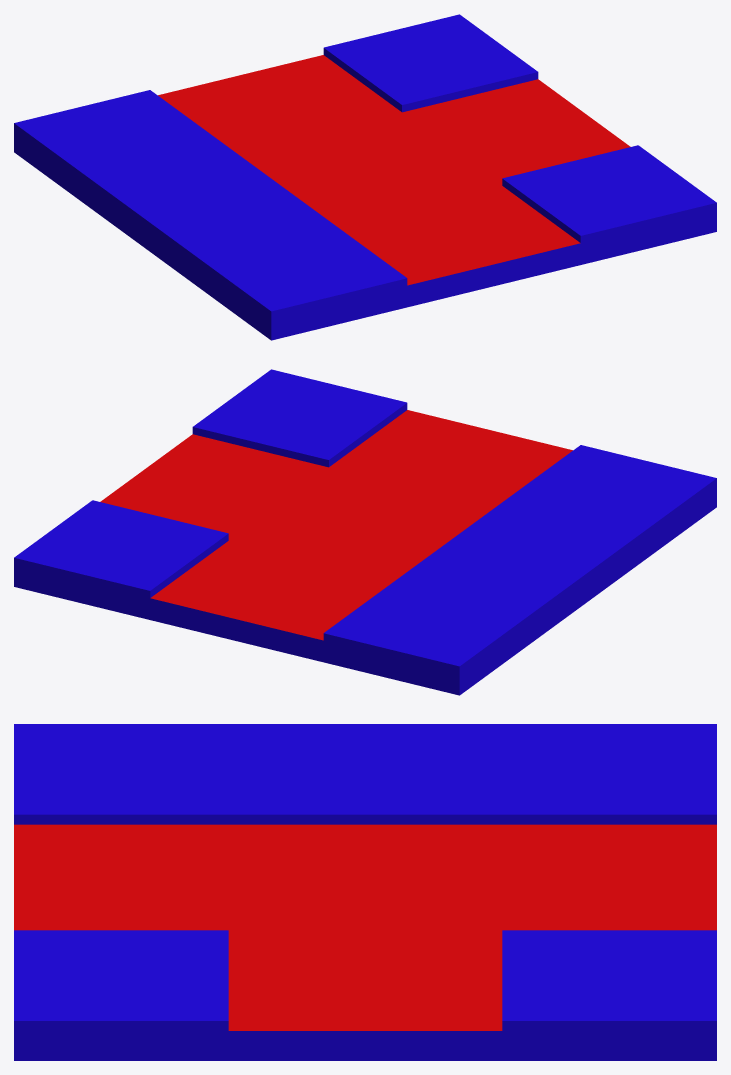
Rendered from TPiece.fbx.
The picture shows the model from 3 angles, top to bottom: view 1: azimuth 30°, elevation 25°; view 2: azimuth 150°, elevation 25°; view 3: azimuth 270°, elevation 25°; orthographic projection. The views are drawn at different scales.
Visible parts, largest first — view 1: Plane.006; view 2: Plane.006; view 3: Plane.006.
Part boxes in pixels (x1,y1,x2,y2): Plane.006: [14, 14, 716, 340]; Plane.006: [14, 369, 716, 695]; Plane.006: [14, 724, 716, 1060].
Bounding box in the file's own units: 1600 × 100 × 1600.
